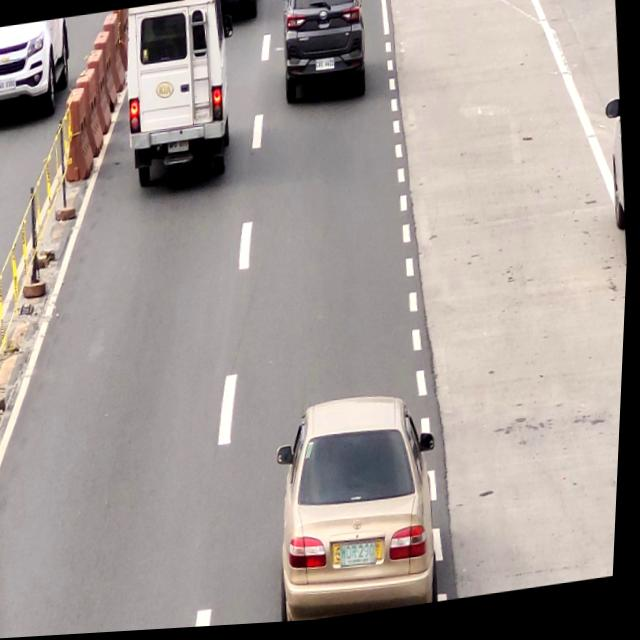Car: (272, 390, 453, 626), (116, 0, 240, 188), (273, 0, 373, 112)
License-Plate: (336, 540, 390, 578), (167, 139, 193, 157), (315, 59, 337, 79)
